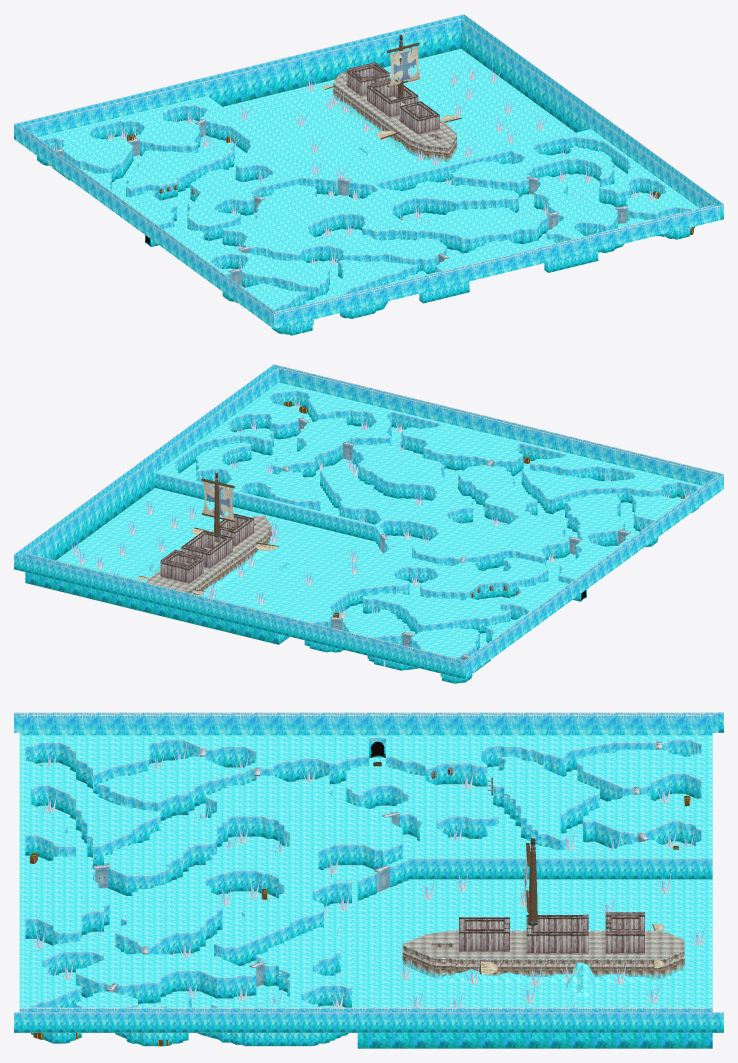
The model's file is glaciercrawl.gltf.
The picture shows the model from 3 angles, top to bottom: view 1: azimuth 30°, elevation 25°; view 2: azimuth 150°, elevation 25°; view 3: azimuth 270°, elevation 25°; orthographic projection. The views are drawn at different scales.
Size of the model in its own units: 126 by 25.11 by 126.
24 materials, 24 textured.
